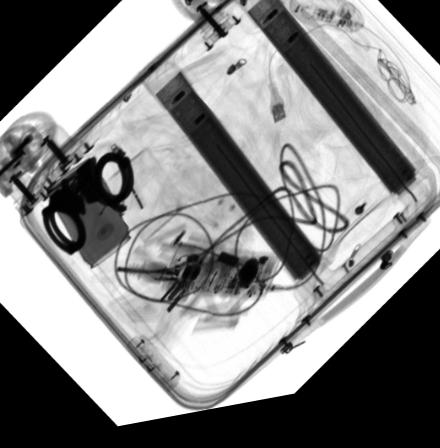HandCuffs: (36, 152, 136, 260)
